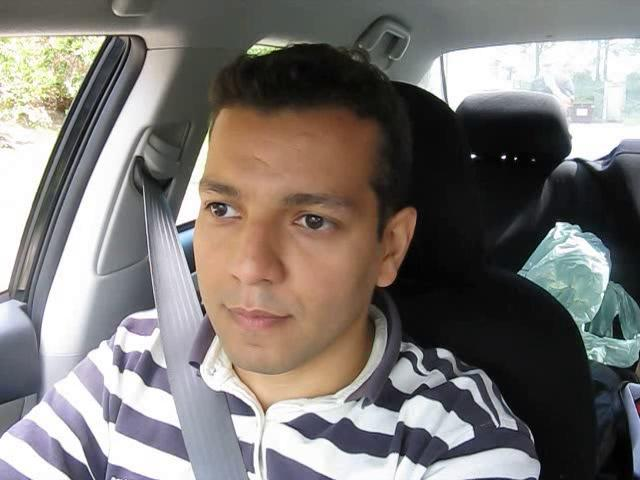no_yawn: (209, 295, 309, 339)
open_eyeL: (194, 190, 250, 231)
open_eyeR: (283, 204, 351, 242)
